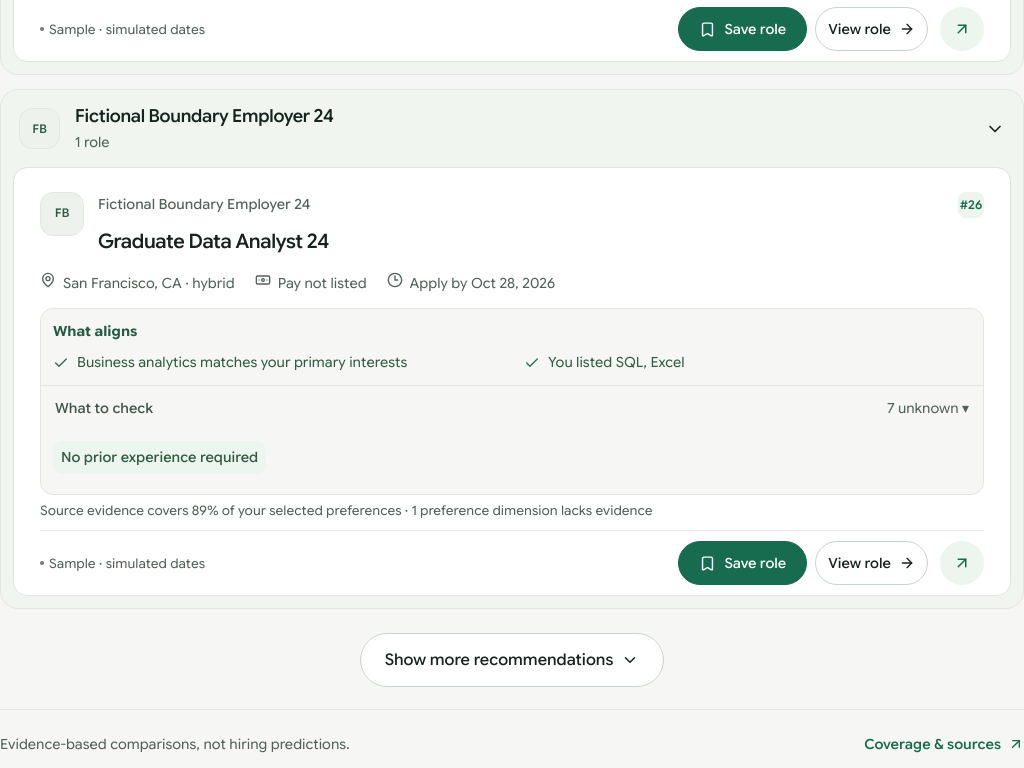
Test case: recommendation browsing batches › keeps a company’s lower-ranked role in its first batch instead of cutting that company at the role limit
(page scrolled)
Click the button "Show more recommendations" at (512, 660), box [360,633,664,687]
(page scrolled)
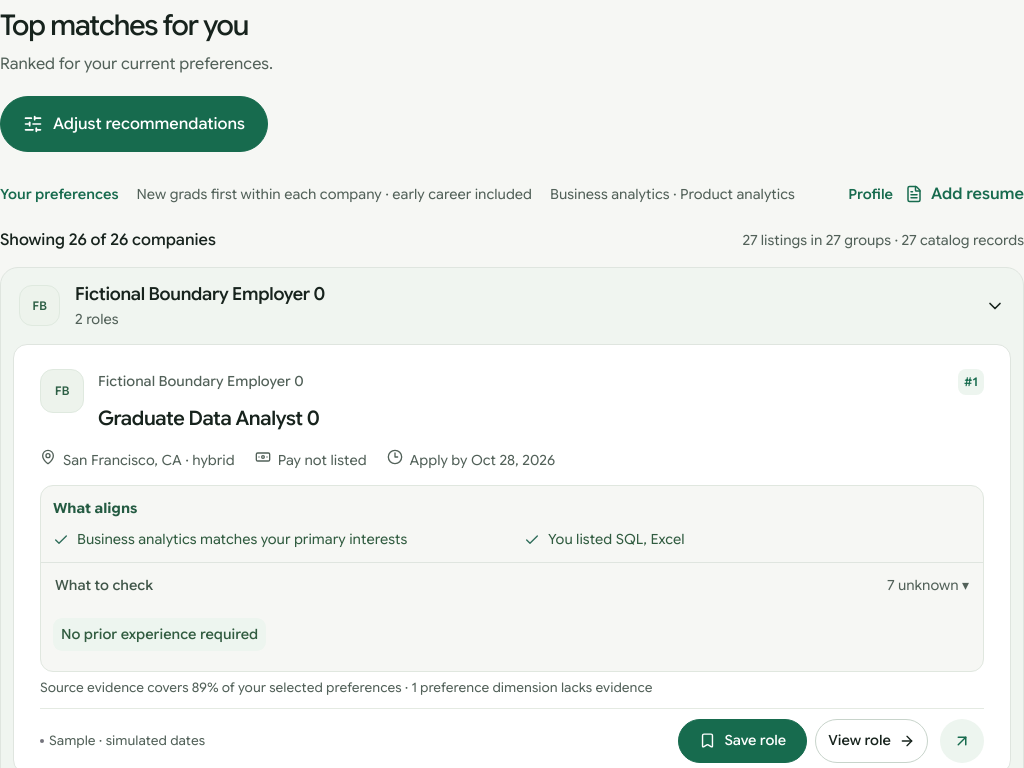
expect the text "Showing 26 of 26 companies" is shown: met, box [0,228,216,253]
